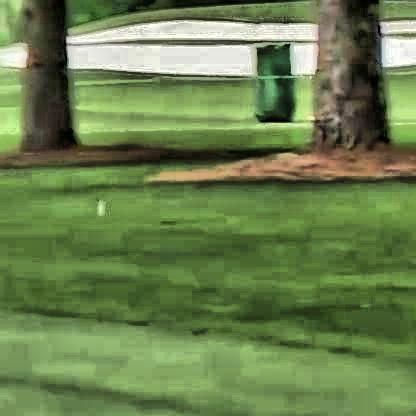golfball: (94, 192, 104, 211)
